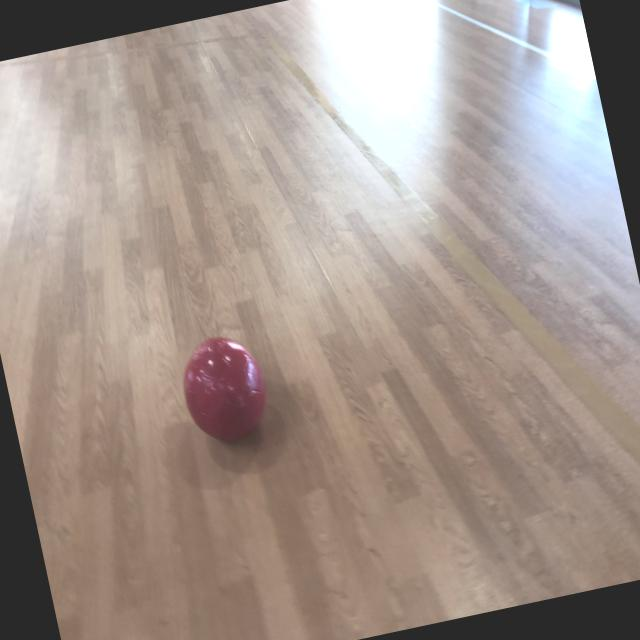red_ball: (172, 328, 275, 452)
